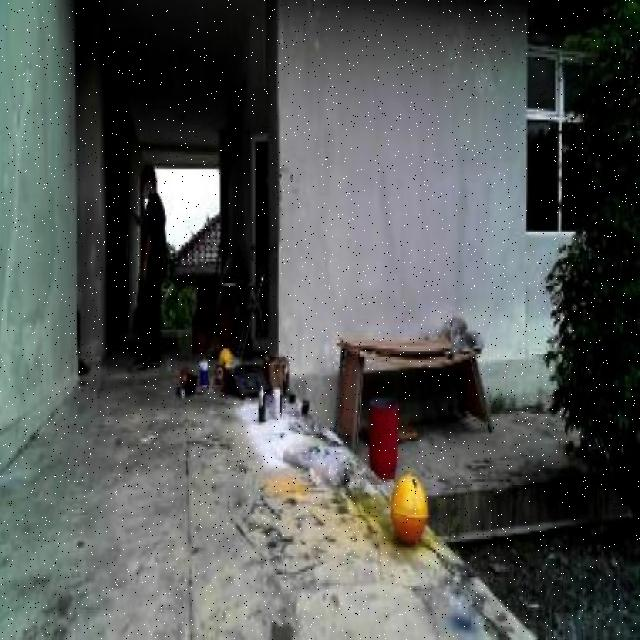buoy: (386, 467, 429, 546), (218, 343, 235, 368)
